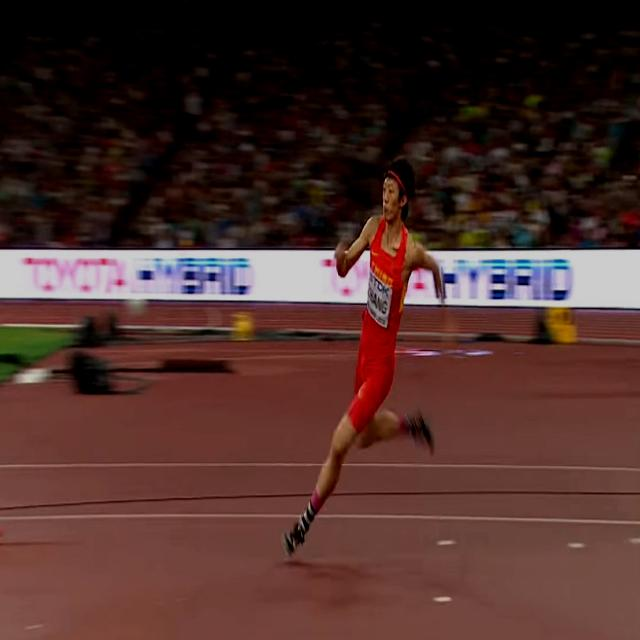run: (282, 151, 442, 557)
